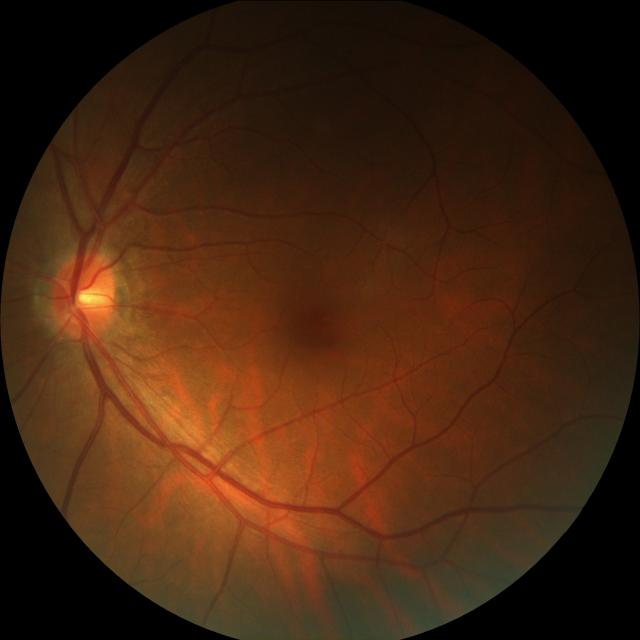OC: (68, 278, 101, 314)
OD: (47, 249, 117, 342)
